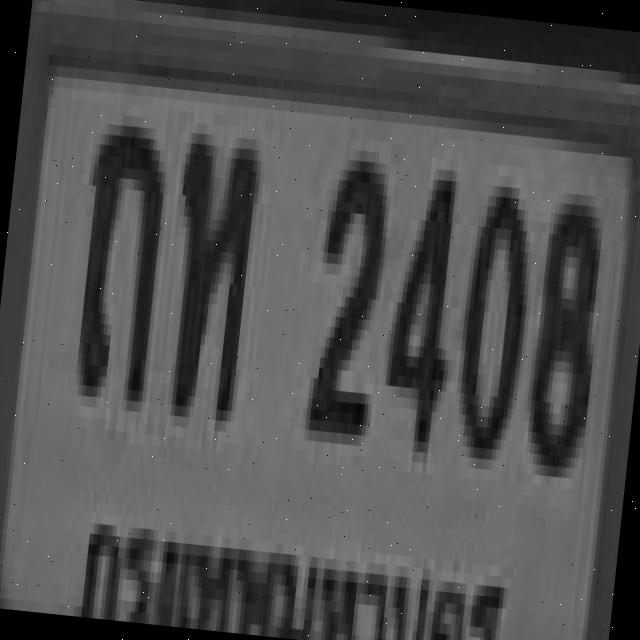0: (448, 173, 536, 451)
2: (301, 147, 390, 435)
31ThorThung: (66, 111, 171, 402)
4: (376, 154, 462, 442)
50HorHeep: (156, 121, 261, 411)
8: (521, 181, 607, 468)
